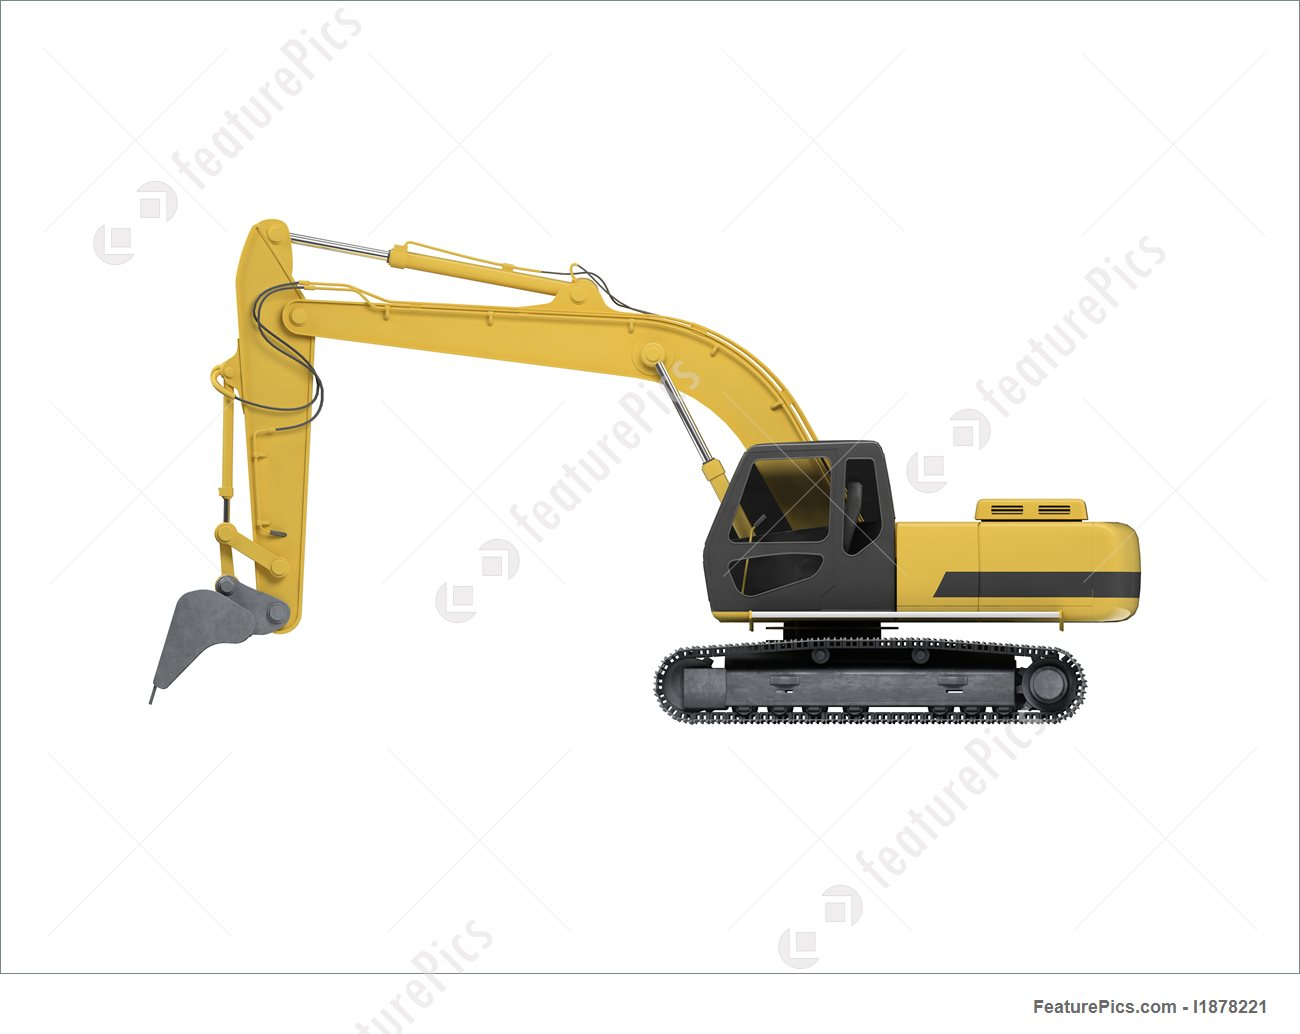backhoe: (128, 214, 1144, 734)
